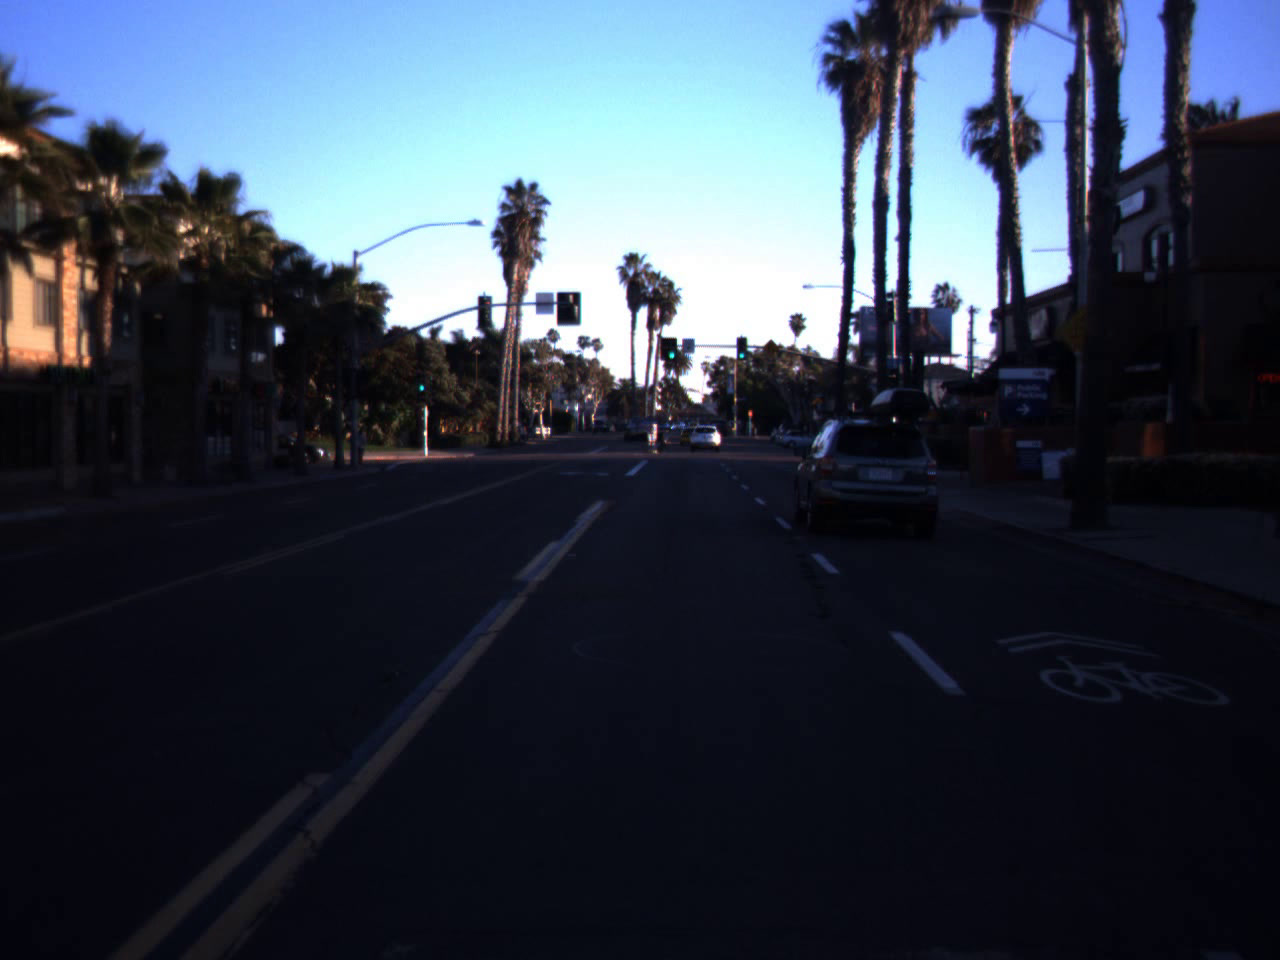go: (666, 335, 678, 360), (415, 372, 427, 392), (736, 339, 748, 359)
